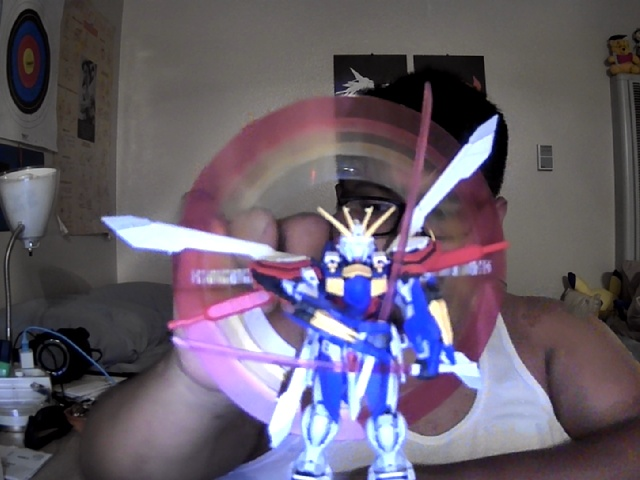God: (102, 95, 510, 480)
